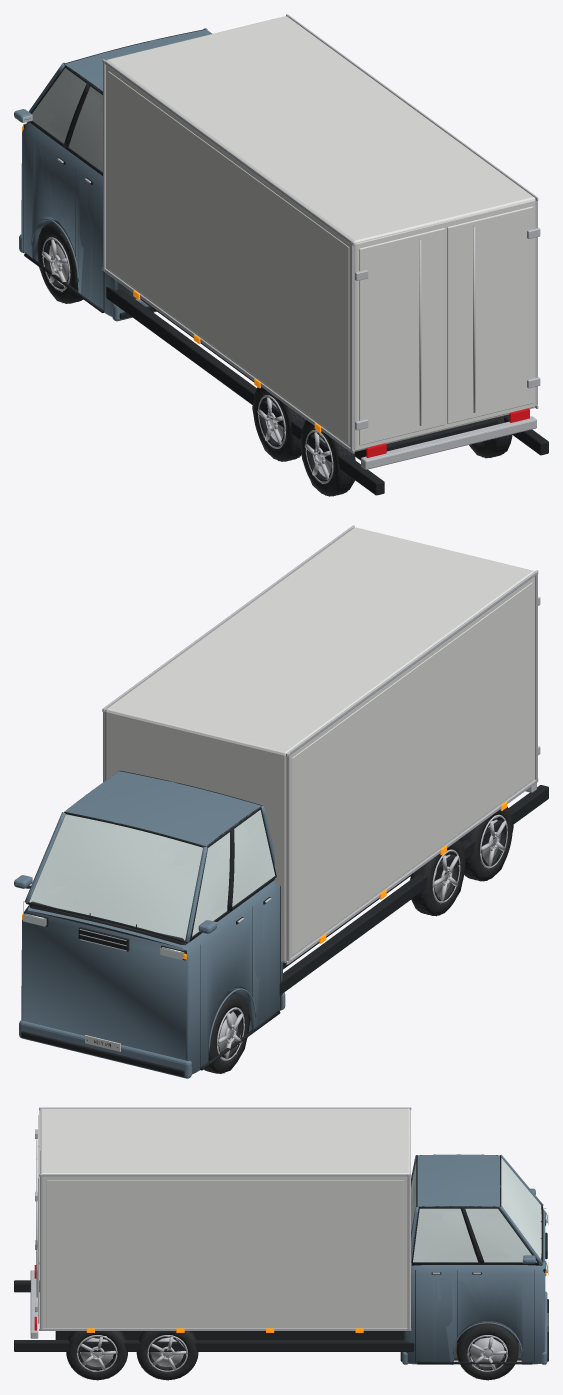
The model's file is VehicleBoxTruck.fbx.
3 views of the same model, one above another, from view 1: azimuth 30°, elevation 25°; view 2: azimuth 150°, elevation 25°; view 3: azimuth 270°, elevation 25° (orthographic). The views are drawn at different scales.
Parts seen in each view (by area): view 1: VehicleBoxTruck_Body_LOD0_Export, VehicleBoxTruck_Body_LOD2_Export, VehicleBoxTruck_Body_LOD1_Export, VehicleBoxTruck_Glass_LOD0_Export, VehicleBoxTruck_Wheel_0_LOD0_Export, VehicleBoxTruck_Wheel_1_LOD0_Export, VehicleBoxTruck_Wheel_2_LOD0_Export, VehicleBoxTruck_Wheel_2_LOD1_Export, VehicleBoxTruck_Wheel_0_LOD1_Export, VehicleBoxTruck_Wheel_1_LOD1_Export, VehicleBoxTruck_Glass_LOD1_Export; view 2: VehicleBoxTruck_Body_LOD0_Export, VehicleBoxTruck_Glass_LOD0_Export, VehicleBoxTruck_Body_LOD1_Export, VehicleBoxTruck_Body_LOD2_Export, VehicleBoxTruck_Glass_LOD1_Export, VehicleBoxTruck_Glass_LOD2_Export, VehicleBoxTruck_Wheel_2_LOD0_Export, VehicleBoxTruck_Wheel_0_LOD0_Export, VehicleBoxTruck_Wheel_1_LOD0_Export, VehicleBoxTruck_Wheel_2_LOD1_Export, VehicleBoxTruck_Wheel_1_LOD1_Export, VehicleBoxTruck_Wheel_0_LOD1_Export; view 3: VehicleBoxTruck_Body_LOD0_Export, VehicleBoxTruck_Glass_LOD0_Export, VehicleBoxTruck_Body_LOD2_Export, VehicleBoxTruck_Body_LOD1_Export, VehicleBoxTruck_Wheel_5_LOD0_Export, VehicleBoxTruck_Wheel_4_LOD0_Export, VehicleBoxTruck_Wheel_3_LOD0_Export, VehicleBoxTruck_Glass_LOD1_Export, VehicleBoxTruck_Wheel_5_LOD1_Export, VehicleBoxTruck_Wheel_3_LOD1_Export, VehicleBoxTruck_Glass_LOD2_Export, VehicleBoxTruck_Wheel_4_LOD1_Export (+3 smaller).
Part boxes in pixels (bbox=[...]): VehicleBoxTruck_Body_LOD0_Export: bbox=[14, 14, 548, 495]; VehicleBoxTruck_Body_LOD2_Export: bbox=[14, 16, 548, 493]; VehicleBoxTruck_Body_LOD1_Export: bbox=[15, 16, 535, 452]; VehicleBoxTruck_Glass_LOD0_Export: bbox=[23, 69, 102, 171]; VehicleBoxTruck_Wheel_0_LOD0_Export: bbox=[300, 421, 355, 496]; VehicleBoxTruck_Wheel_1_LOD0_Export: bbox=[253, 386, 306, 461]; VehicleBoxTruck_Wheel_2_LOD0_Export: bbox=[37, 221, 83, 303]; VehicleBoxTruck_Wheel_2_LOD1_Export: bbox=[37, 223, 77, 302]; VehicleBoxTruck_Wheel_0_LOD1_Export: bbox=[301, 420, 355, 495]; VehicleBoxTruck_Wheel_1_LOD1_Export: bbox=[254, 389, 305, 460]; VehicleBoxTruck_Glass_LOD1_Export: bbox=[33, 68, 102, 169]; VehicleBoxTruck_Body_LOD0_Export: bbox=[14, 525, 548, 1078]; VehicleBoxTruck_Glass_LOD0_Export: bbox=[23, 818, 274, 960]; VehicleBoxTruck_Body_LOD1_Export: bbox=[15, 527, 538, 1078]; VehicleBoxTruck_Body_LOD2_Export: bbox=[14, 571, 545, 1077]; VehicleBoxTruck_Glass_LOD1_Export: bbox=[35, 810, 275, 935]; VehicleBoxTruck_Glass_LOD2_Export: bbox=[42, 810, 266, 931]; VehicleBoxTruck_Wheel_2_LOD0_Export: bbox=[204, 991, 249, 1073]; VehicleBoxTruck_Wheel_0_LOD0_Export: bbox=[459, 807, 512, 881]; VehicleBoxTruck_Wheel_1_LOD0_Export: bbox=[411, 840, 465, 916]; VehicleBoxTruck_Wheel_2_LOD1_Export: bbox=[209, 993, 248, 1072]; VehicleBoxTruck_Wheel_1_LOD1_Export: bbox=[412, 844, 465, 915]; VehicleBoxTruck_Wheel_0_LOD1_Export: bbox=[460, 810, 511, 880]; VehicleBoxTruck_Body_LOD0_Export: bbox=[14, 1107, 548, 1364]; VehicleBoxTruck_Glass_LOD0_Export: bbox=[411, 1163, 548, 1274]; VehicleBoxTruck_Body_LOD2_Export: bbox=[15, 1109, 547, 1364]; VehicleBoxTruck_Body_LOD1_Export: bbox=[41, 1108, 547, 1364]; VehicleBoxTruck_Wheel_5_LOD0_Export: bbox=[456, 1321, 518, 1379]; VehicleBoxTruck_Wheel_4_LOD0_Export: bbox=[136, 1331, 198, 1379]; VehicleBoxTruck_Wheel_3_LOD0_Export: bbox=[66, 1331, 127, 1379]; VehicleBoxTruck_Glass_LOD1_Export: bbox=[411, 1162, 541, 1262]; VehicleBoxTruck_Wheel_5_LOD1_Export: bbox=[457, 1324, 517, 1379]; VehicleBoxTruck_Wheel_3_LOD1_Export: bbox=[68, 1331, 126, 1379]; VehicleBoxTruck_Glass_LOD2_Export: bbox=[411, 1158, 541, 1262]; VehicleBoxTruck_Wheel_4_LOD1_Export: bbox=[138, 1331, 197, 1379].
Bounding box in the file's own units: 2.63 × 3.61 × 8.36.
